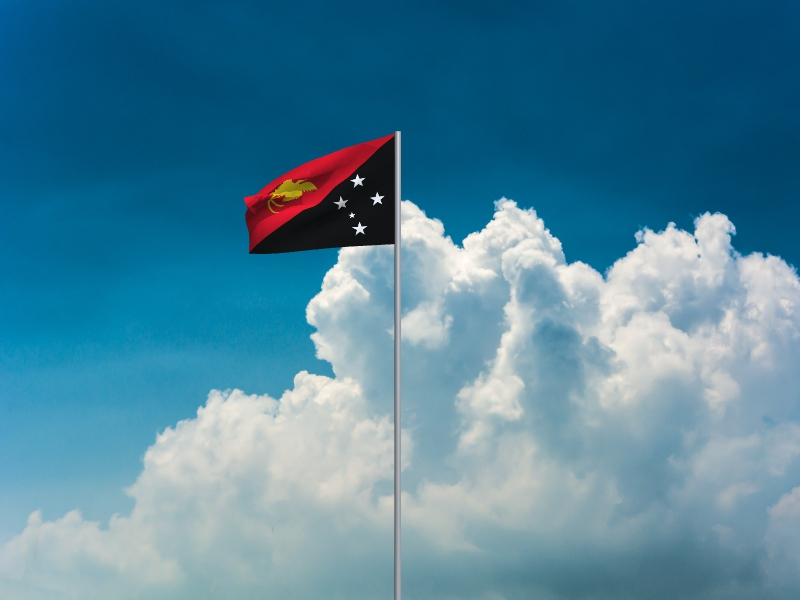pg: (243, 134, 395, 256)
